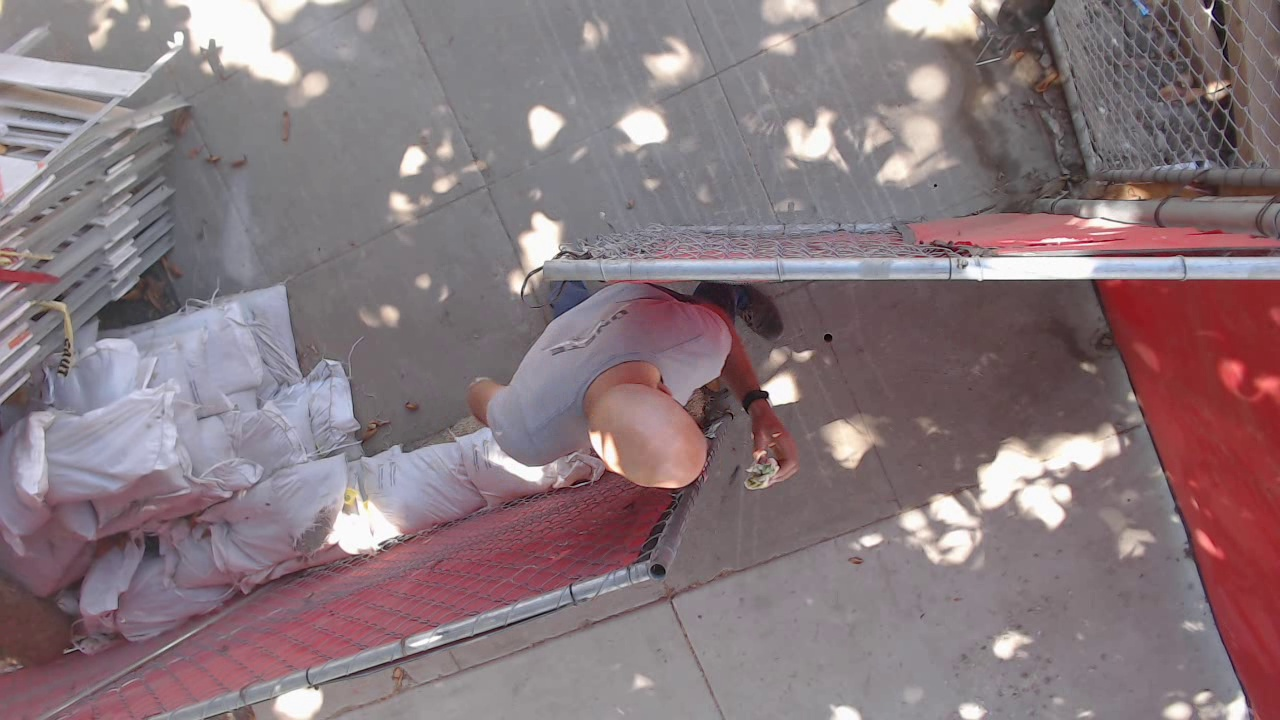person: (468, 283, 802, 495)
